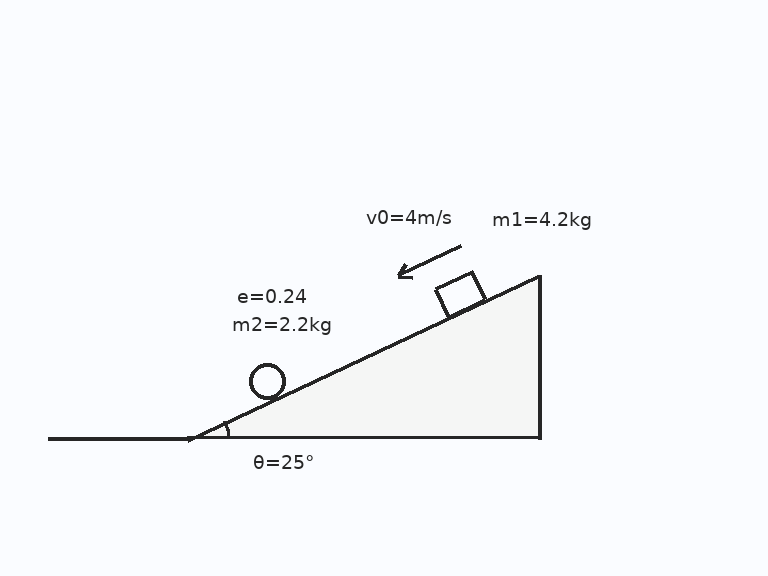ball: (247, 361, 287, 401)
block: (433, 270, 488, 319)
ramp: (186, 273, 540, 440)
